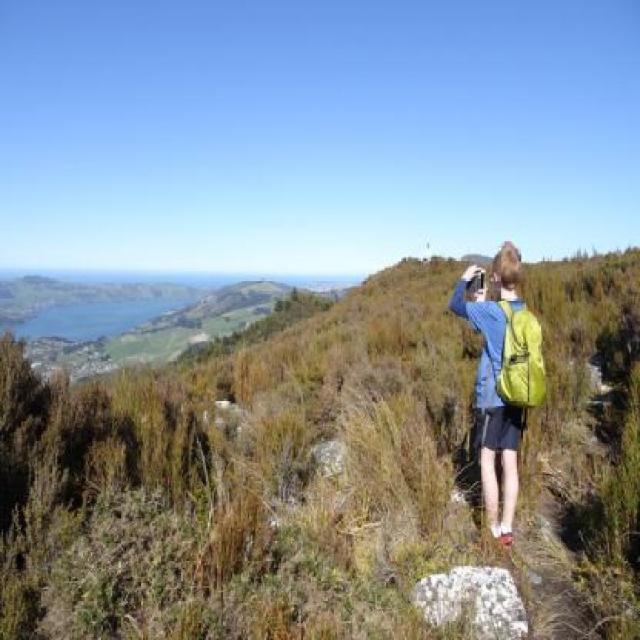backpack: (492, 298, 551, 416)
